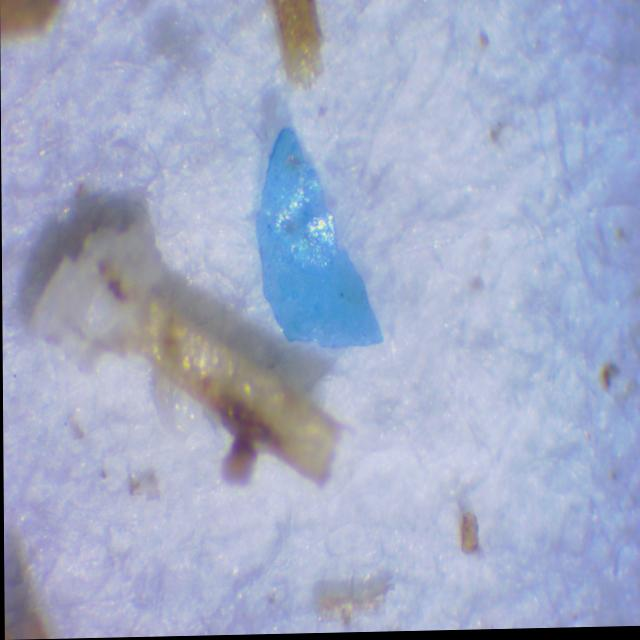microplastic: (255, 132, 383, 352)
